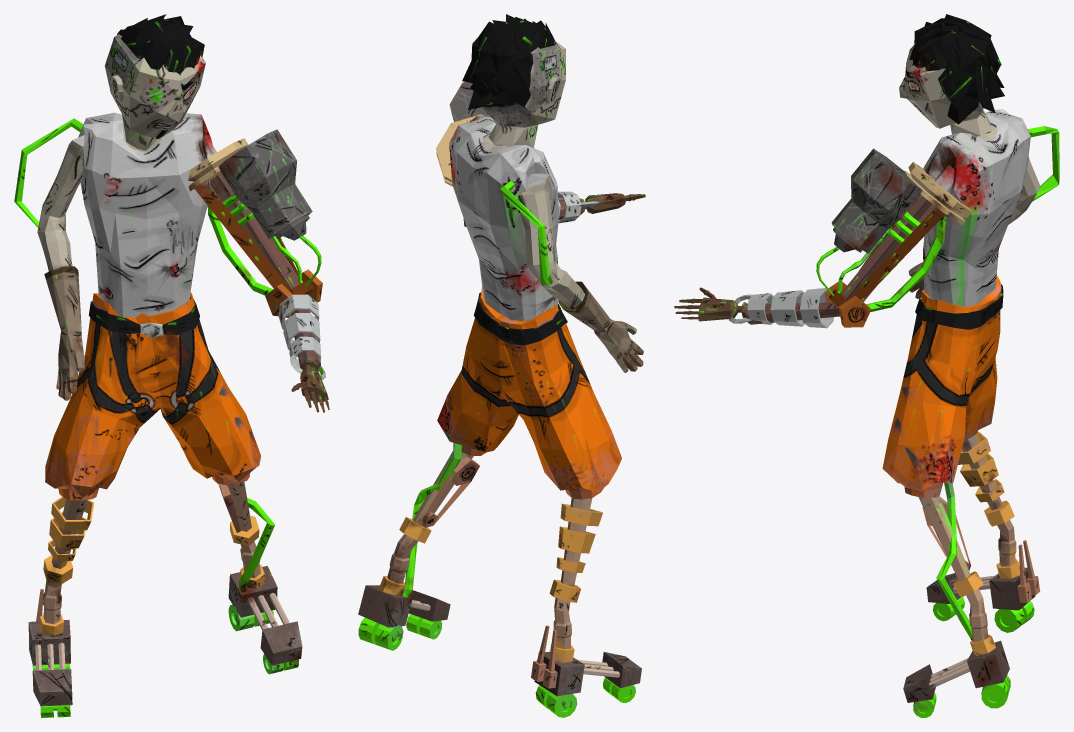
Rendered from CyborgFINALAnimation_000035.obj.
The picture shows the model from 3 angles, left to right: view 1: azimuth 30°, elevation 25°; view 2: azimuth 150°, elevation 25°; view 3: azimuth 270°, elevation 25°; orthographic projection. The views are drawn at different scales.
Visible parts, largest first — view 1: CyborgMesh_Cube.002; view 2: CyborgMesh_Cube.002; view 3: CyborgMesh_Cube.002.
Boxes of the visible parts, x1,y1,x2,y2 form: CyborgMesh_Cube.002: [14, 14, 329, 717]; CyborgMesh_Cube.002: [358, 14, 645, 717]; CyborgMesh_Cube.002: [674, 14, 1059, 717].
Bounding box in the file's own units: 3.88 × 9.62 × 5.22.
